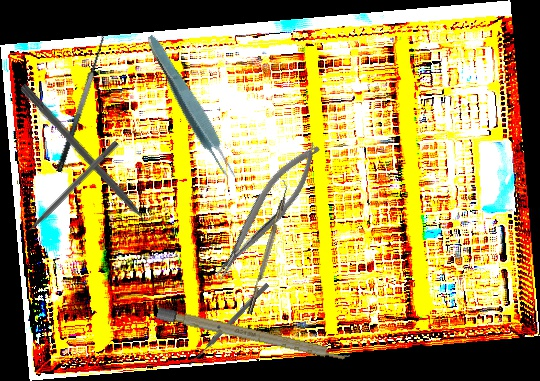Chopper: (241, 179, 292, 315)
Needle Holder: (200, 135, 332, 287)
Pusher: (17, 82, 164, 243), (15, 139, 120, 243), (186, 281, 271, 368)
Scalpel Handle: (156, 306, 351, 364)
Spatula Surgical: (43, 30, 113, 174)
Tissue Forceps: (140, 31, 242, 186)
